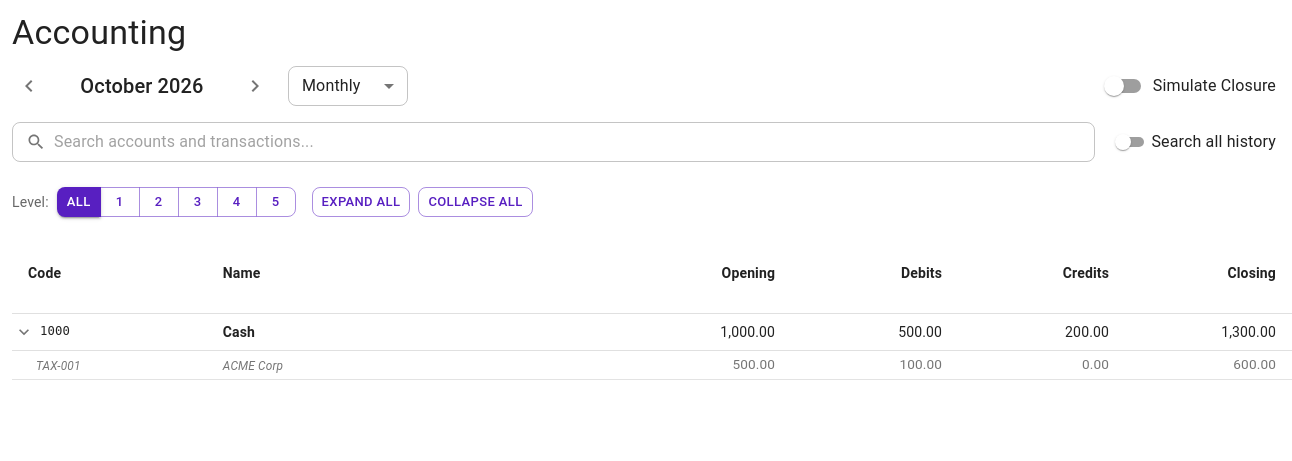
AccountingPage › shows warning when only nominal accounts are missing
This screenshot has width=1292, height=461.
Step 1. Click the checkbox labelled "Simulate Closure" → click(1190, 86), box [1104, 76, 1276, 96]
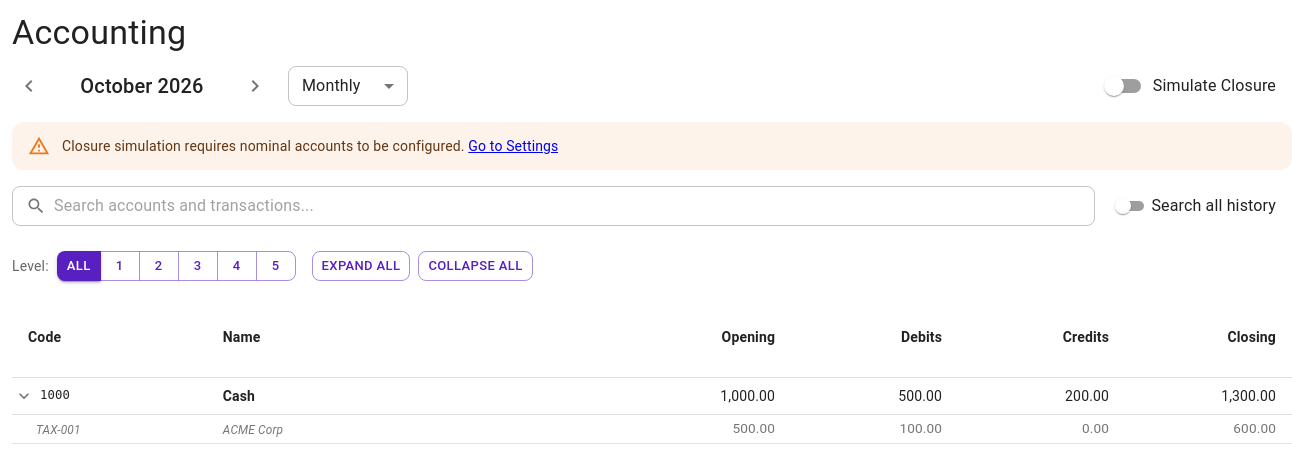
Check: the text "requires nominal accounts to be configured" is shown, box [62, 138, 465, 154]
